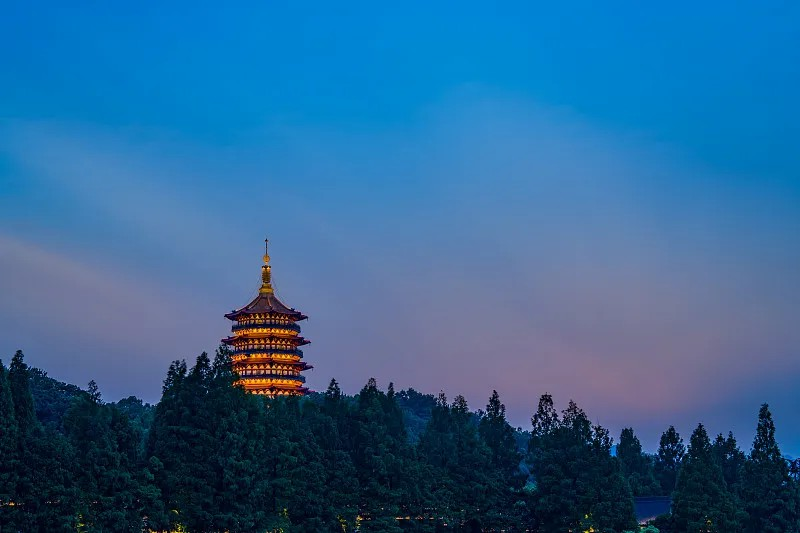Leifeng: (218, 237, 316, 409)
